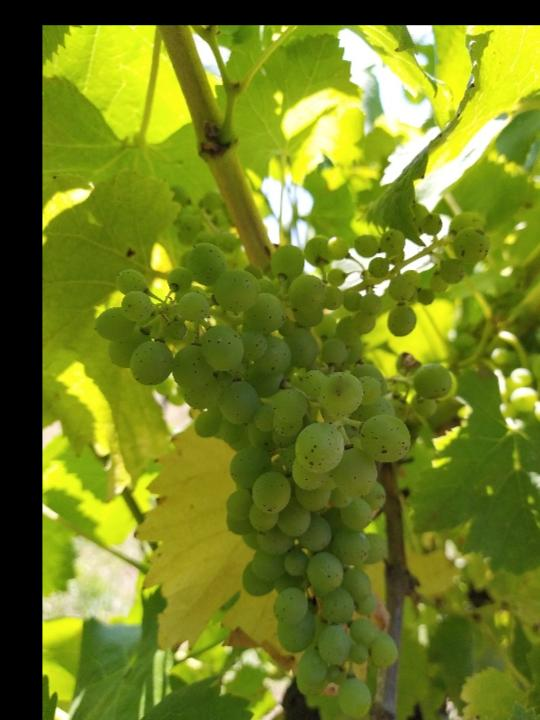grape: (91, 204, 490, 720)
